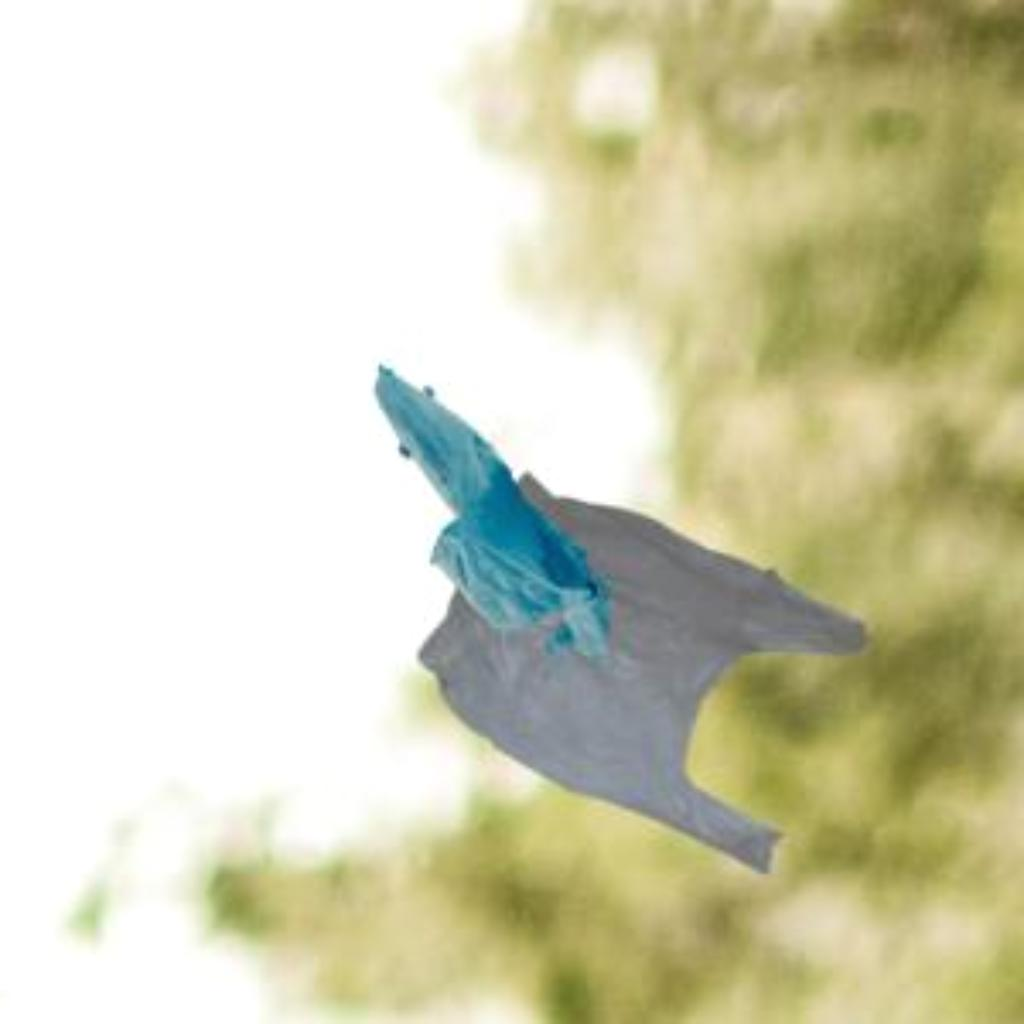garbage: (384, 411, 903, 886), (360, 324, 613, 635)
